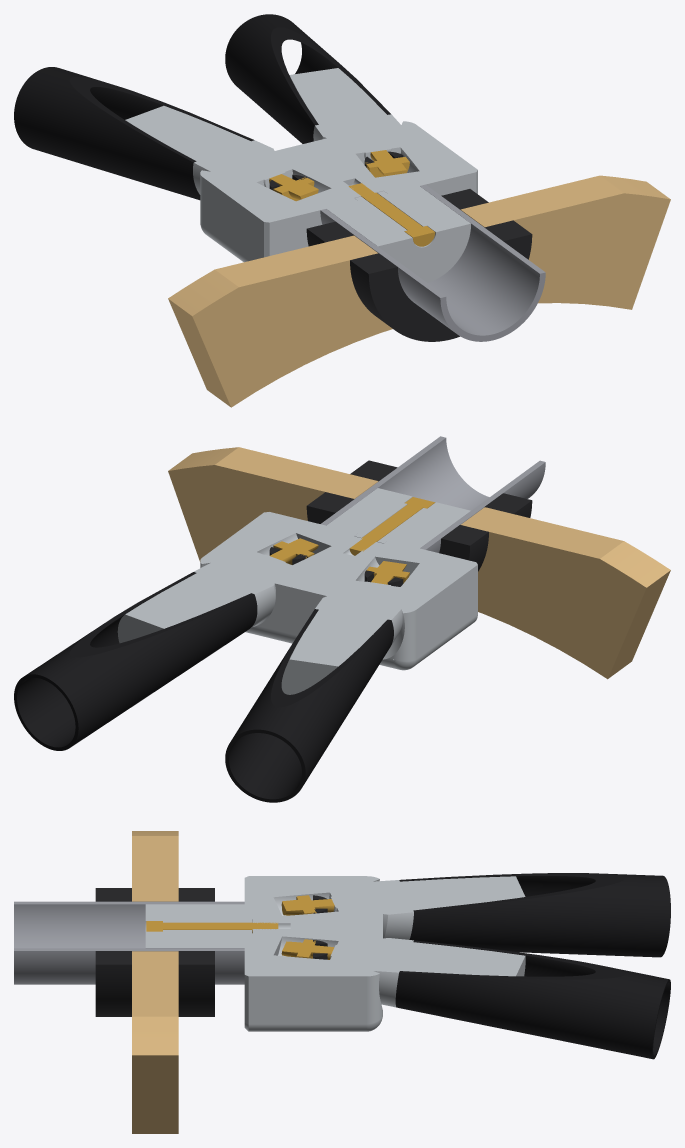
File: socket_section.glb
The picture shows the model from 3 angles, top to bottom: view 1: azimuth 30°, elevation 25°; view 2: azimuth 150°, elevation 25°; view 3: azimuth 270°, elevation 25°; orthographic projection. The views are drawn at different scales.
Visible parts, largest first — view 1: box_ring, socket_block, pole_-1, stub, pole_1, spigot, stub_collars, plug_-1, plug_1, head_screws, spigot_bolt; view 2: box_ring, socket_block, pole_1, pole_-1, plug_-1, plug_1, stub, spigot, stub_collars, head_screws, spigot_bolt; view 3: pole_1, socket_block, pole_-1, box_ring, stub, stub_collars, plug_-1, plug_1, spigot, head_screws, spigot_bolt.
Boxes of the visible parts, x1,y1,x2,y2 form: box_ring: (168,175,670,407); socket_block: (200,121,477,262); pole_-1: (14,67,254,200); stub: (320,184,545,341); pole_1: (225,14,390,143); spigot: (326,186,470,282); stub_collars: (306,189,532,341); plug_-1: (125,105,285,194); plug_1: (289,68,401,160); head_screws: (269,150,409,201); spigot_bolt: (348,183,435,246); box_ring: (168,447,670,679); socket_block: (200,512,477,670); pole_1: (14,572,257,750); pole_-1: (225,609,393,802); plug_-1: (281,581,402,694); plug_1: (117,554,285,643); stub: (320,436,545,552); spigot: (327,488,470,548); stub_collars: (306,460,532,571); head_screws: (270,538,409,584); spigot_bolt: (349,497,435,555); pole_1: (395,940,670,1059); socket_block: (244,876,382,1031); pole_-1: (399,873,670,957); box_ring: (132,831,178,1133); stub: (14,901,244,984); stub_collars: (95,888,214,1016); plug_-1: (330,876,525,939); plug_1: (330,938,525,1007); spigot: (145,904,251,948); head_screws: (281,895,334,959); spigot_bolt: (146,921,278,933).
Size of the model in its own units: 205 by 48.4 by 253.
